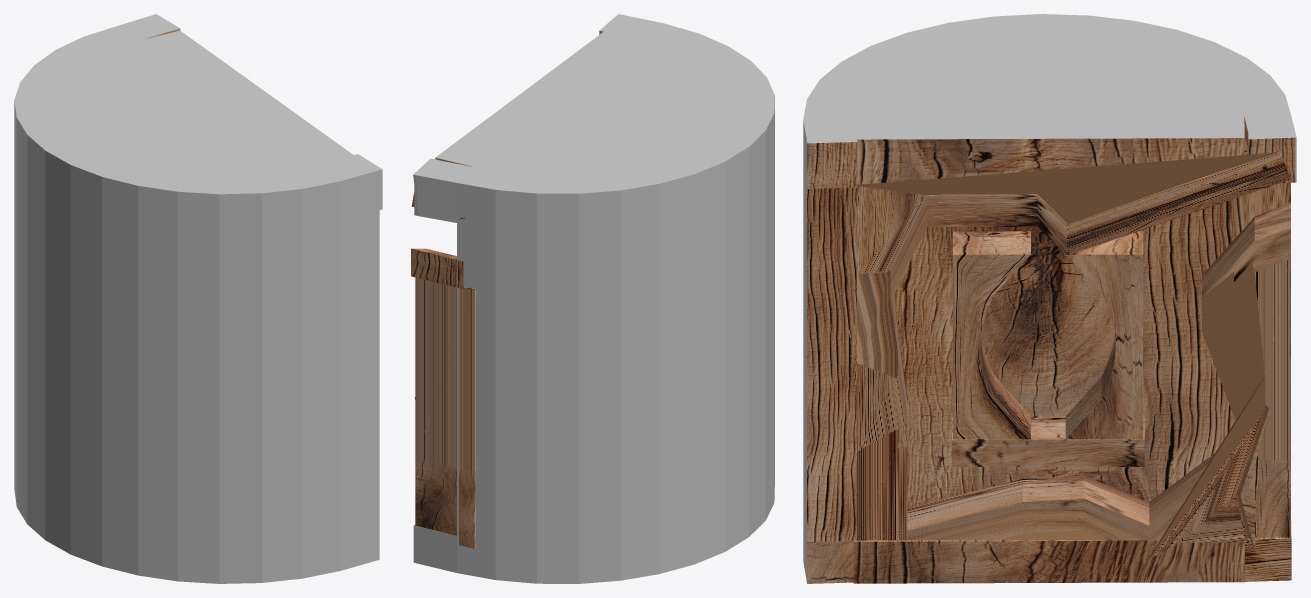
Rendered from Penek2.fbx.
3 renders of one model, left to right at view 1: azimuth 30°, elevation 25°; view 2: azimuth 150°, elevation 25°; view 3: azimuth 270°, elevation 25°, orthographic. The views are drawn at different scales.
Visible parts, largest first — view 1: Cube; view 2: Cube; view 3: Cube.
Part boxes in pixels (x1,y1,x2,y2): Cube: (14, 14, 382, 583); Cube: (411, 14, 774, 583); Cube: (803, 14, 1296, 583).
Bounding box in the file's own units: 638 × 1016 × 1027.
